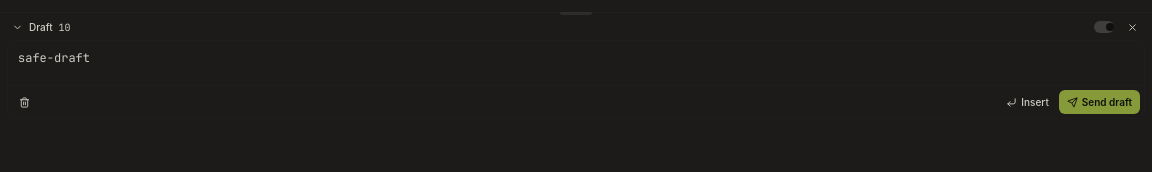
Test: draft delivery through the component, nonce ACK and real sequence encoder › shows accepted feedback when its parent clears the draft, including effect remounts
Click the button "Insert".
click(1028, 102)  # box [998, 90, 1057, 114]
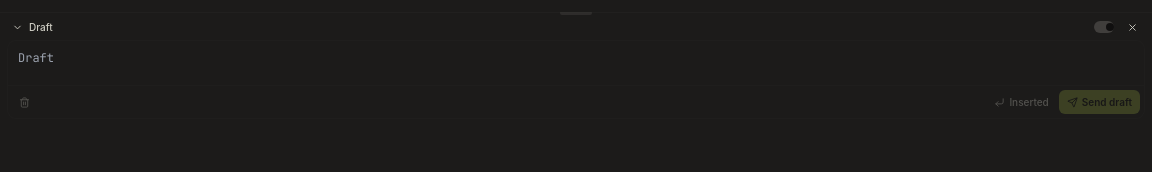
Now the text box is empty, box [8, 41, 1144, 85]
Now the text "Inserted" is shown, box [1009, 94, 1049, 110]
